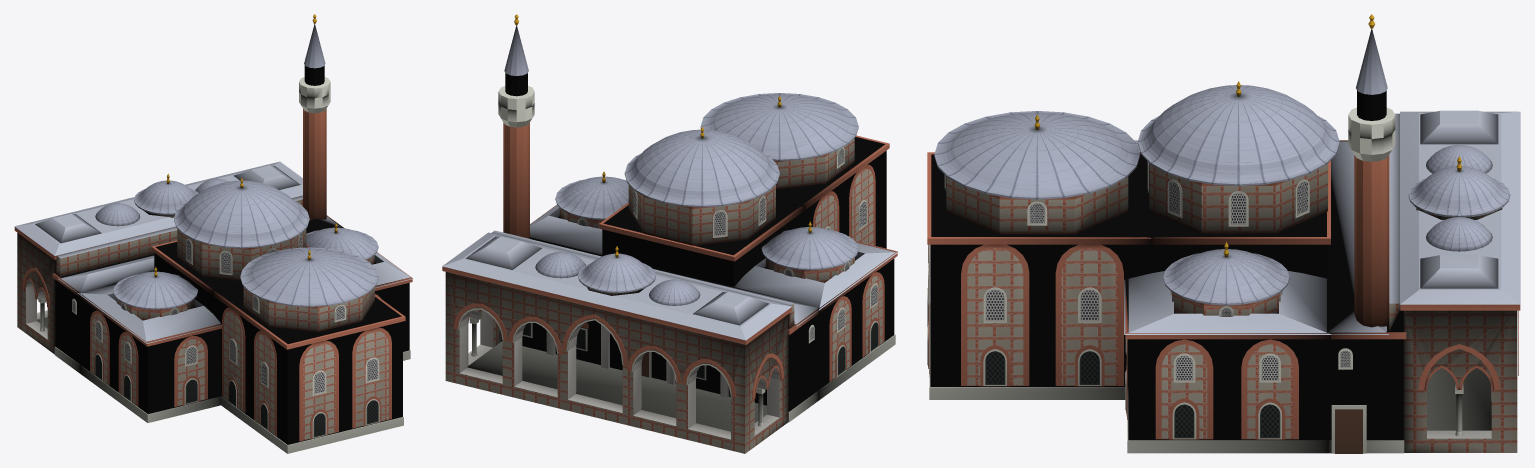
File: orhan-bey-camii_v05.glb
3 renders of one model, left to right at view 1: azimuth 30°, elevation 25°; view 2: azimuth 150°, elevation 25°; view 3: azimuth 270°, elevation 25°, orthographic. The views are drawn at different scales.
Visible parts, largest first — view 1: Cepheler, Kubbe_Mihrap, Kubbe_Ana, Kubbe_SonCemaat, Cami_Mihrap, Cati_Kanatlar, Cami_Kanat_B, Cami_Koridor, Minare_1, Kaide_Bant, Sacak, Cami_SonCemaat (+4 smaller); view 2: Cami_SonCemaat, Kubbe_SonCemaat, Kubbe_Ana, Kubbe_Mihrap, Cepheler, Revak_Ic, Cati_Kanatlar, Cami_Koridor, Cami_Harim, Minare_1, Sacak, Revak_Cephe (+6 smaller); view 3: Cepheler, Kubbe_SonCemaat, Kubbe_Ana, Kubbe_Mihrap, Cami_Mihrap, Cati_Kanatlar, Cami_SonCemaat, Minare_1, Cami_Kanat_D, Cami_Koridor, Sacak, Kubbe_Tabhane_D (+4 smaller).
Boxes of the visible parts, x1,y1,x2,y2 form: Cepheler: (72,233,391,441); Kubbe_Mihrap: (240,247,378,332); Kubbe_Ana: (174,180,309,280); Kubbe_SonCemaat: (14,161,302,255); Cami_Mihrap: (214,285,402,444); Cati_Kanatlar: (58,216,413,343); Cami_Kanat_B: (81,298,221,414); Cami_Koridor: (55,196,302,364); Minare_1: (299,14,330,219); Kaide_Bant: (54,346,410,453); Sacak: (14,195,412,349); Cami_SonCemaat: (17,233,55,353); Cami_SonCemaat: (445,272,788,453); Kubbe_SonCemaat: (442,232,791,340); Kubbe_Ana: (624,129,779,245); Kubbe_Mihrap: (700,93,858,189); Cepheler: (577,147,884,381); Revak_Ic: (467,317,766,431); Cati_Kanatlar: (530,205,898,326); Cami_Koridor: (491,230,817,411); Cami_Harim: (602,200,802,286); Minare_1: (498,14,534,238); Sacak: (442,135,897,344); Revak_Cephe: (453,303,783,400); Cepheler: (927,162,1366,453); Kubbe_SonCemaat: (1400,110,1520,304); Kubbe_Ana: (1137,85,1339,233); Kubbe_Mihrap: (934,111,1140,234); Cami_Mihrap: (930,154,1149,386); Cati_Kanatlar: (1124,140,1389,334); Cami_SonCemaat: (1403,310,1517,452); Minare_1: (1348,14,1395,327); Cami_Kanat_D: (1128,313,1327,440); Cami_Koridor: (1328,113,1403,440); Sacak: (927,140,1520,339); Kubbe_Tabhane_D: (1163,249,1289,315).
Size of the model in its own units: 26.2 by 27.05 by 33.88.
Materials: 12 (4 with a texture image).
